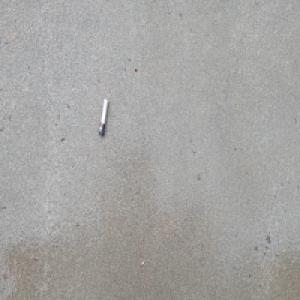Battery: (97, 97, 108, 137)
